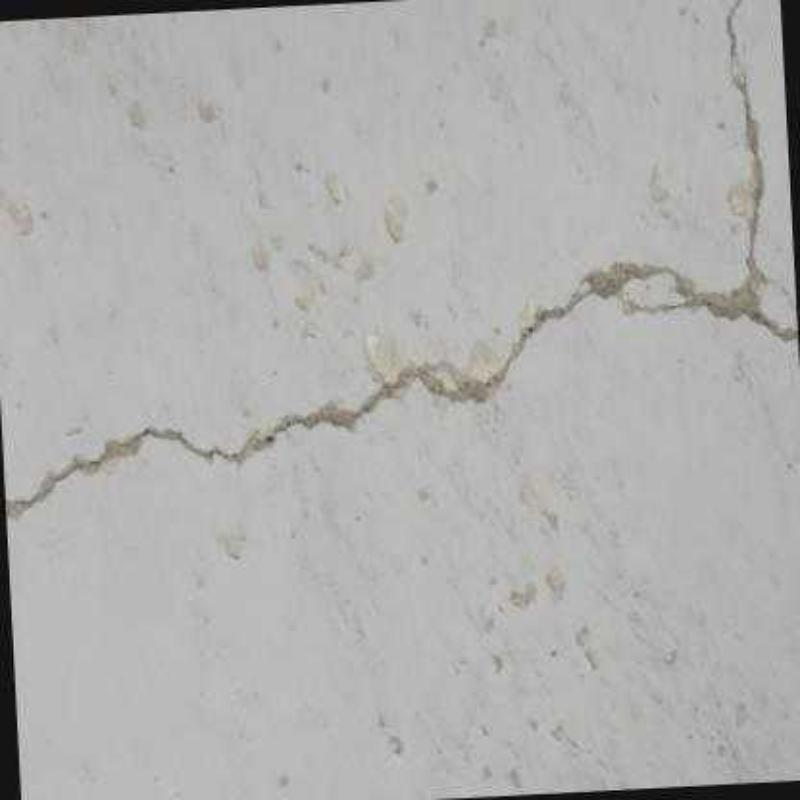crack: (4, 0, 798, 534)
